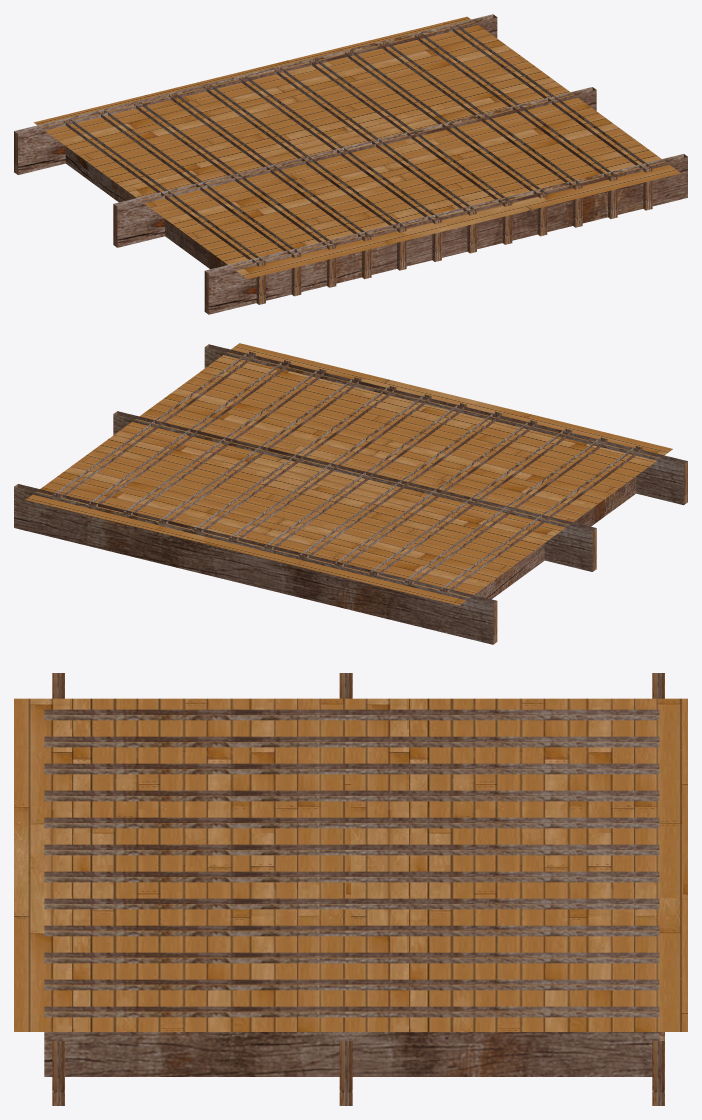
The model's file is Ceiling_SP_wide.fbx.
The picture shows the model from 3 angles, top to bottom: view 1: azimuth 30°, elevation 25°; view 2: azimuth 150°, elevation 25°; view 3: azimuth 270°, elevation 25°; orthographic projection. The views are drawn at different scales.
Parts seen in each view (by area): view 1: Ceiling bit; view 2: Ceiling bit; view 3: Ceiling bit.
Part boxes in pixels (<box>): Ceiling bit: <box>14,14,687,314</box>; Ceiling bit: <box>14,343,687,644</box>; Ceiling bit: <box>14,673,687,1105</box>.
Bounding box in the file's own units: 761 × 62.4 × 589.
